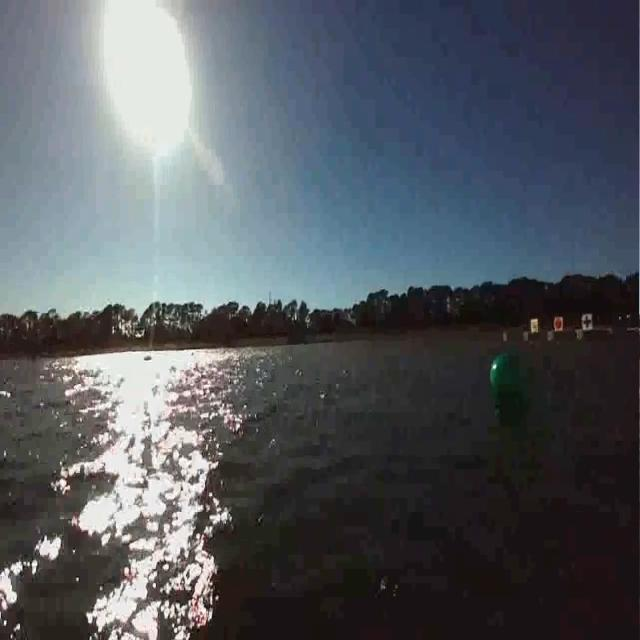green-buoy: (485, 351, 532, 421)
